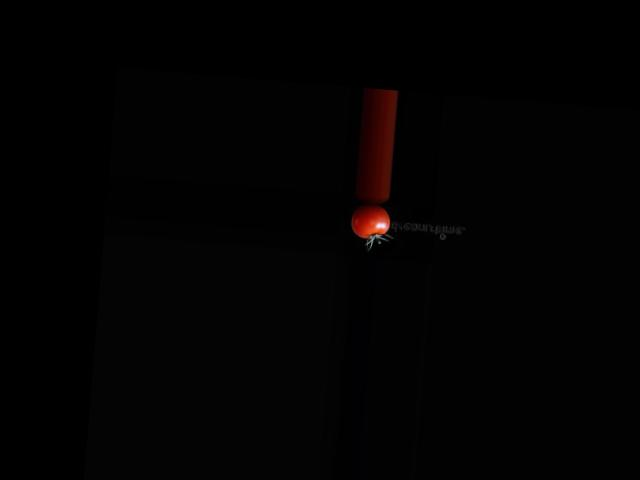tomato: (350, 203, 391, 239)
